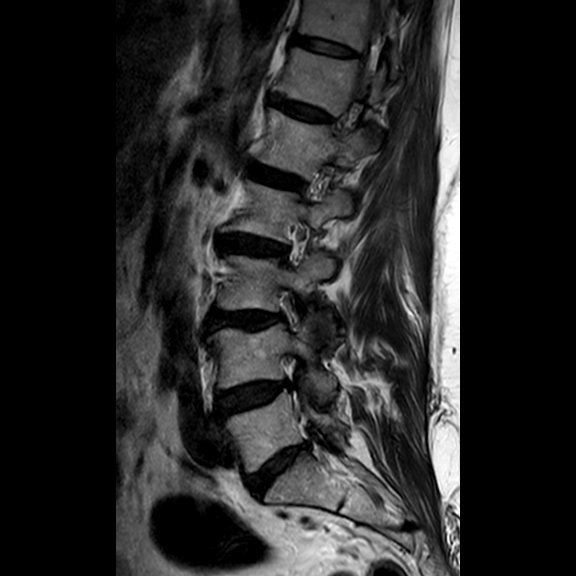LFS0: (271, 211, 320, 275)
LFS1: (265, 280, 312, 339)
